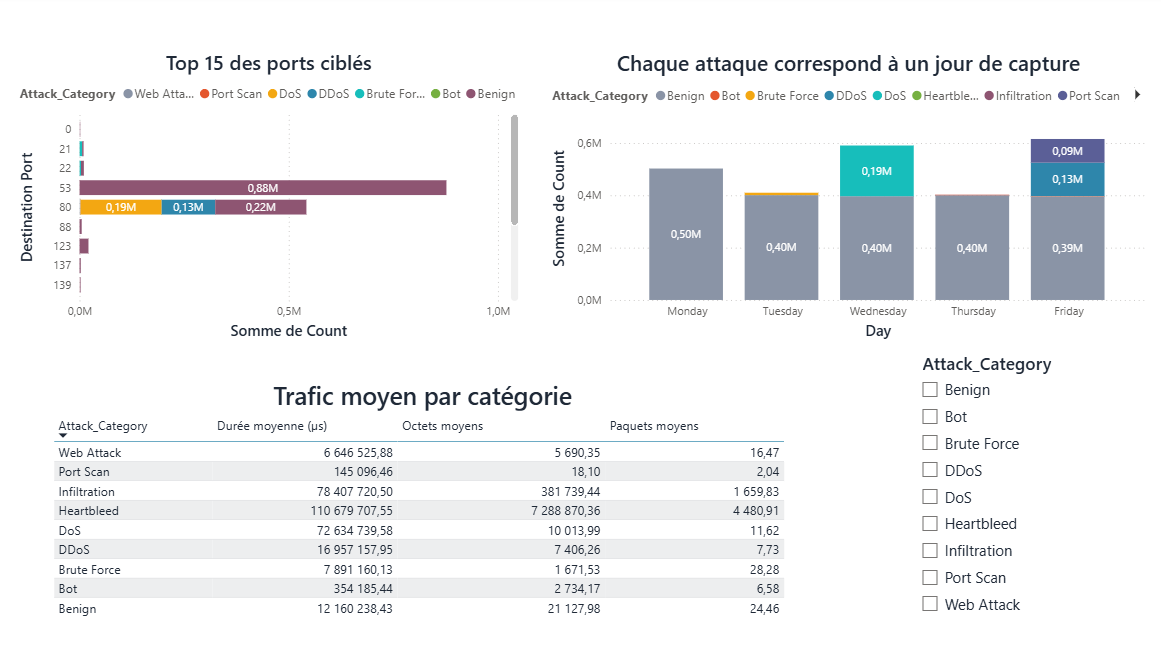

Layout of this report page (visuals, bound fields, positions):
{"tool":"powerbi","page":{"name":"Analyse des attaques","canvas":[1280,720],"ordinal":1},"visuals":[{"type":"columnChart","title":"Chaque attaque correspond à un jour de capture","fields":{"Y":["Sum(daily_summary.Count)"],"Category":["daily_summary.Day"],"Series":["daily_summary.Attack_Category"]},"box":[598,58,650,320],"z":0},{"type":"barChart","title":"Top 15 des ports ciblés","fields":{"Y":["Sum(port_summary.Count)"],"Category":["port_summary.Destination Port"],"Series":["port_summary.Attack_Category"]},"box":[22,58,548,320],"z":1000},{"type":"tableEx","title":"Trafic moyen par catégorie","fields":{"Values":["traffic_stats.Attack_Category","Sum(traffic_stats.Flow Duration)","Sum(traffic_stats.Total_Bytes)","Sum(traffic_stats.Traffic_Volume)"]},"box":[44,414,838,276],"z":2000},{"type":"slicer","fields":{"Values":["attack_summary.Attack_Category"]},"box":[990,380,240,310],"z":3000}]}

Visuals, with their boxes in screenshot pixels (x1, y1, x2, y2), scaled from the page's 1280x720 canvas onto the 1161x649 screenshot:
"Chaque attaque correspond à un jour de capture" columnChart: detection(542, 52, 1132, 341)
"Top 15 des ports ciblés" barChart: detection(20, 52, 517, 341)
"Trafic moyen par catégorie" tableEx: detection(40, 373, 800, 622)
slicer - attack_summary.Attack_Category: detection(898, 343, 1116, 622)
